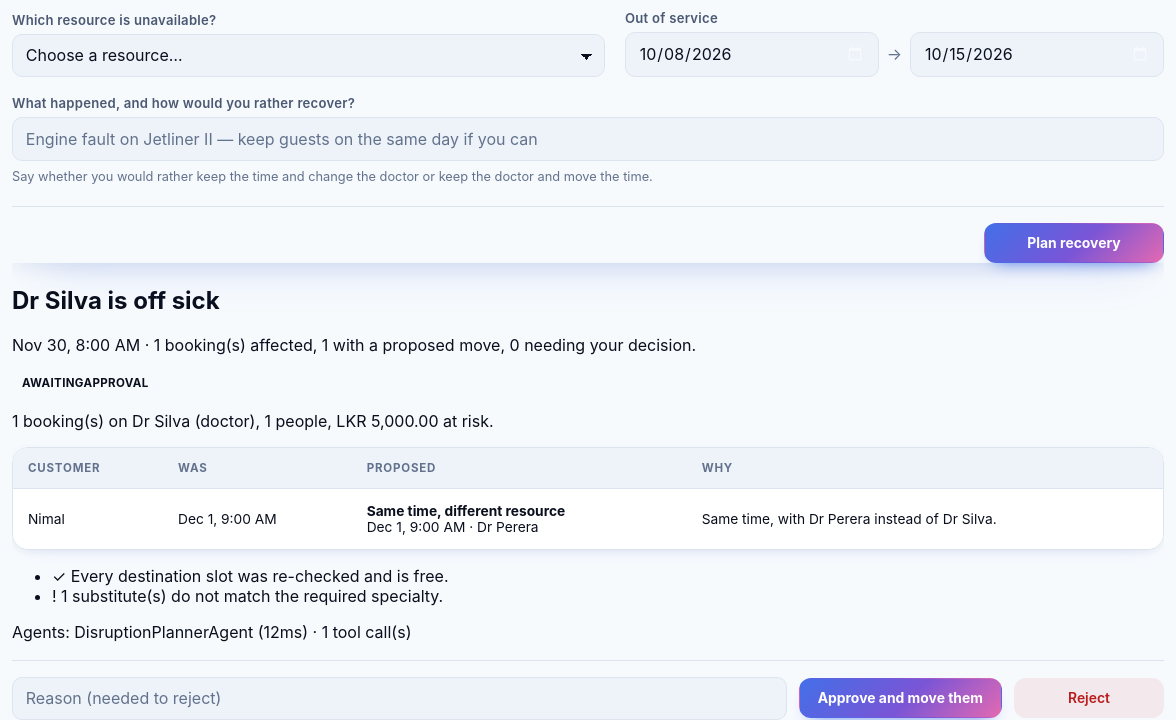
Scenario: DisruptionRecoveryPage › will not reject without a reason
(page scrolled)
Step 1. Click the button "Reject" → [1089, 698], box [1014,678,1164,718]
(page scrolled)
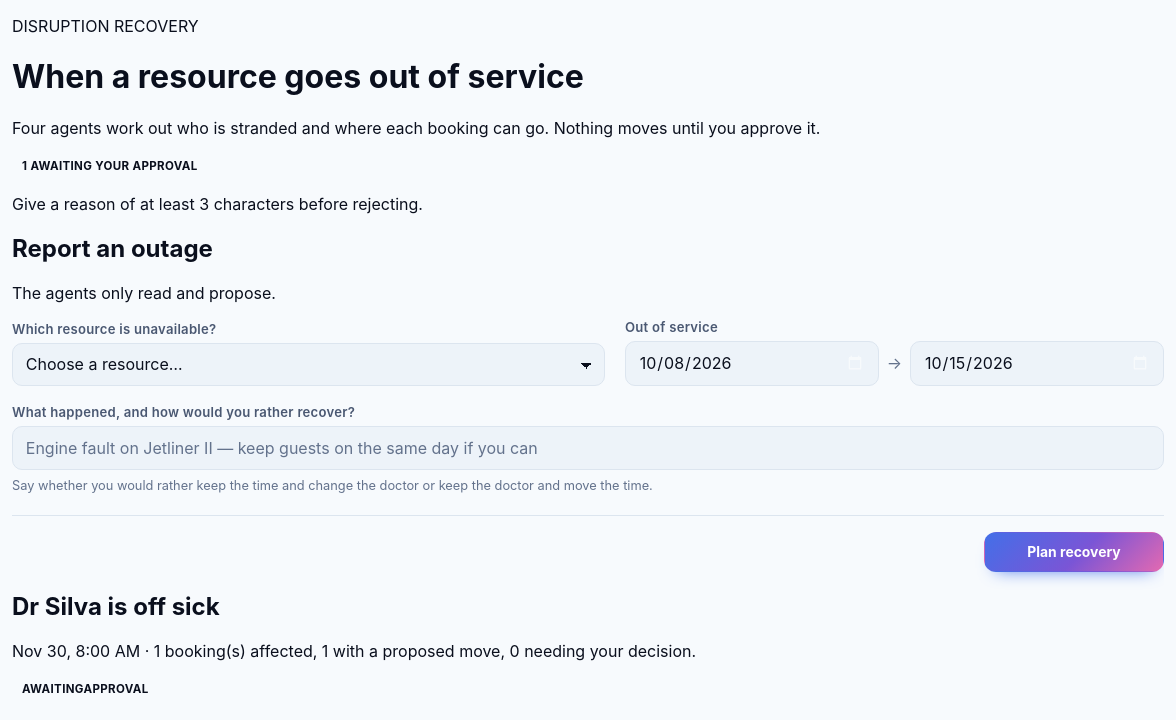
Now the text "Give a reason of at least 3 characters before rejecting." is shown, box [12,194,423,214]
